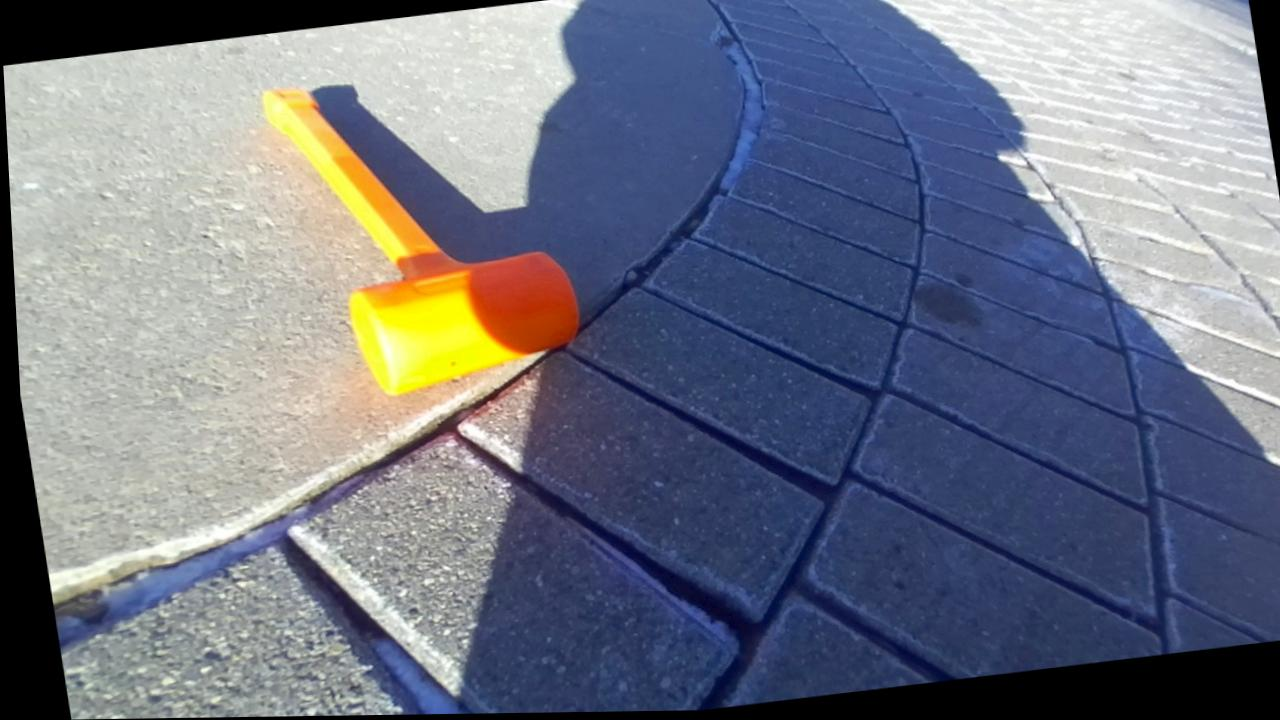mallet: (263, 88, 578, 394)
